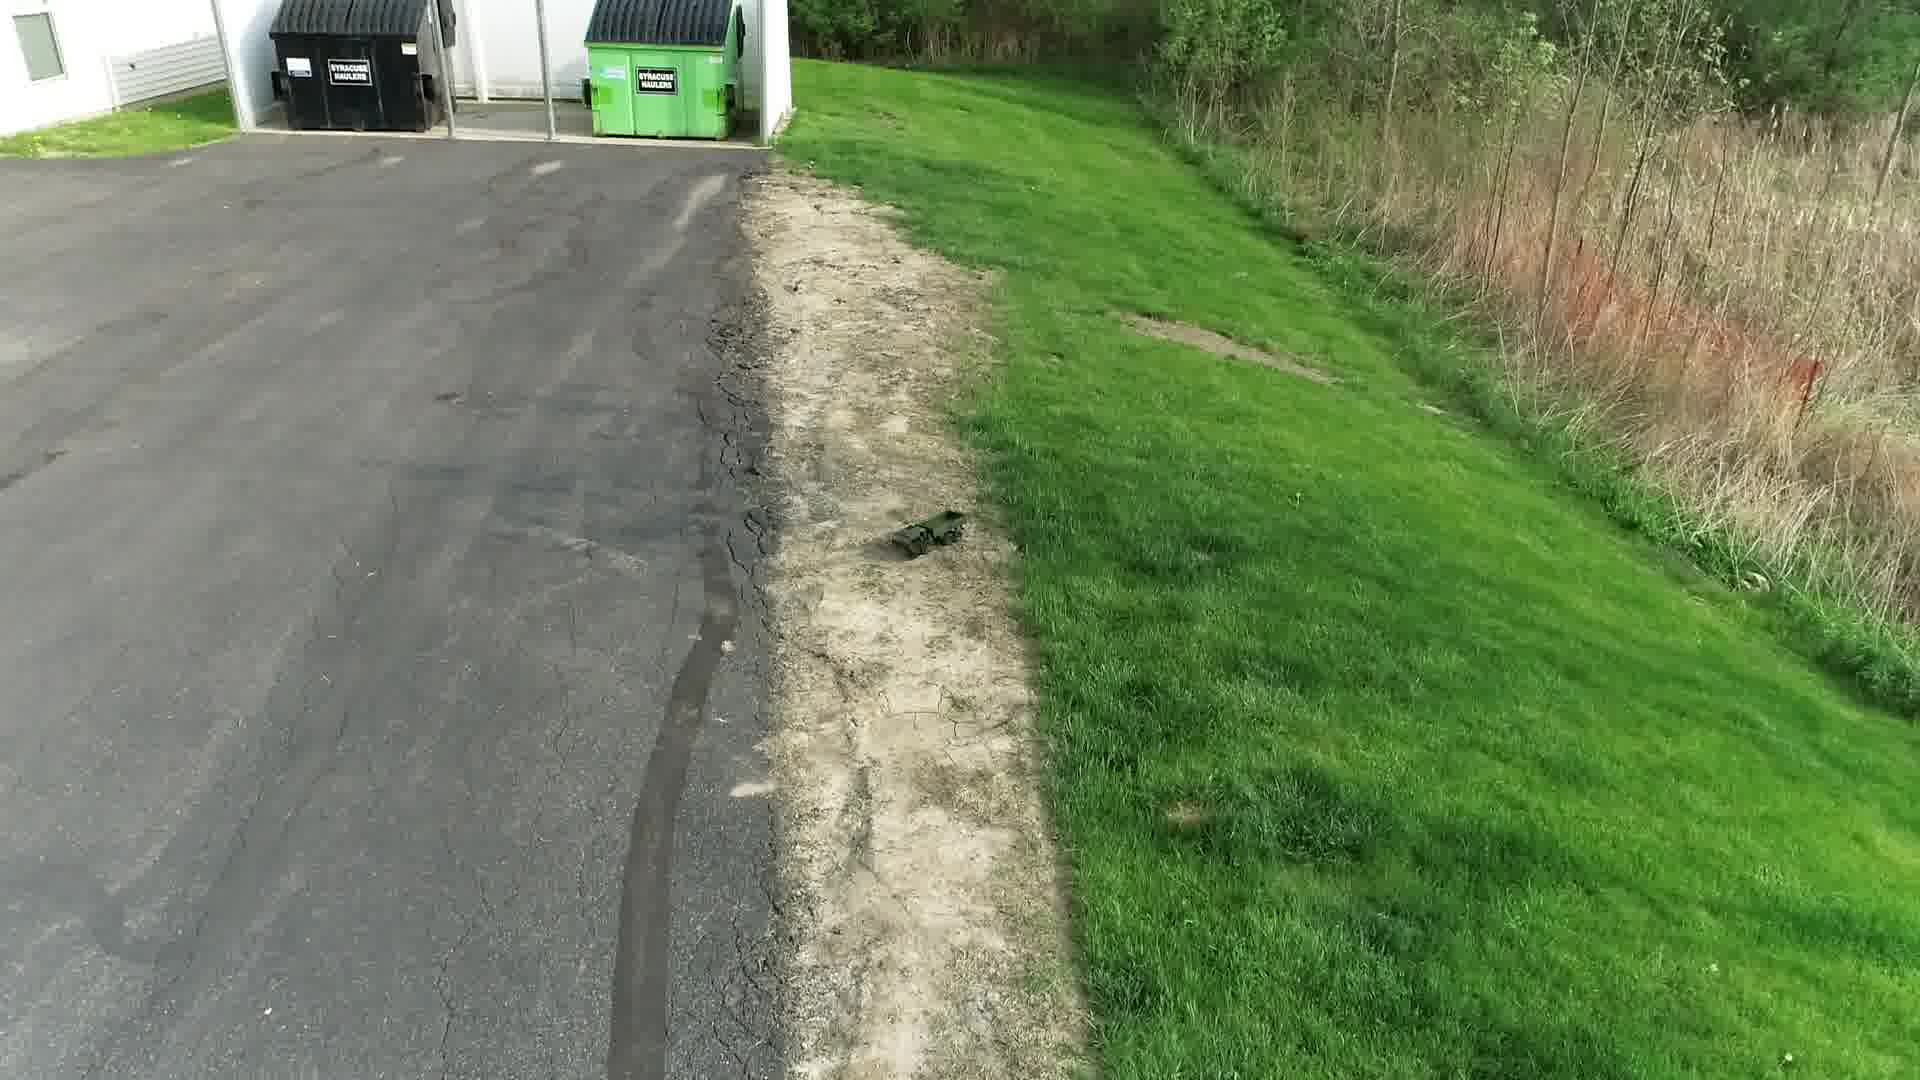transporter9: (884, 506, 971, 559)
